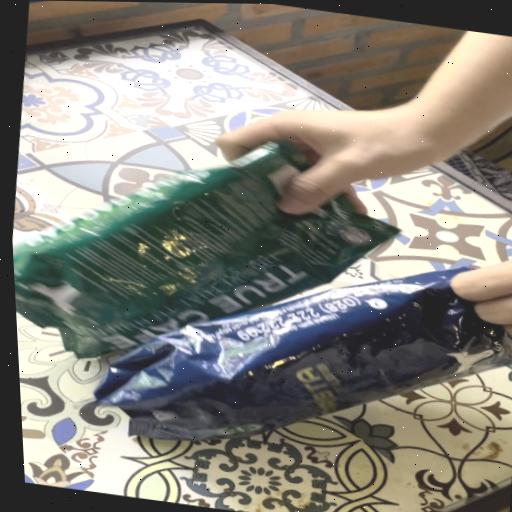cafe_hat: (95, 267, 512, 441)
cafe_xay: (13, 142, 396, 358)
